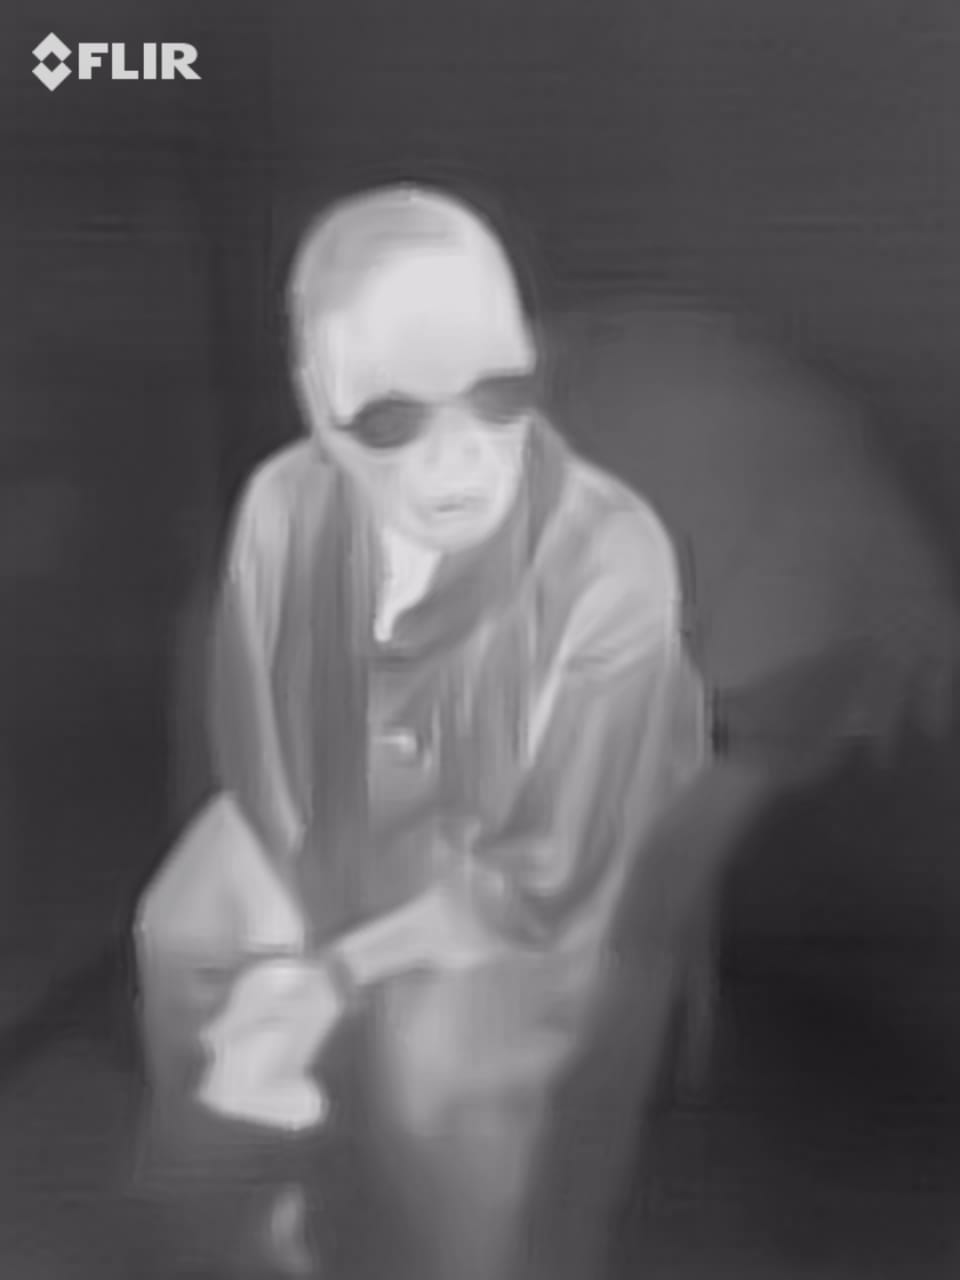head: (268, 180, 569, 588)
